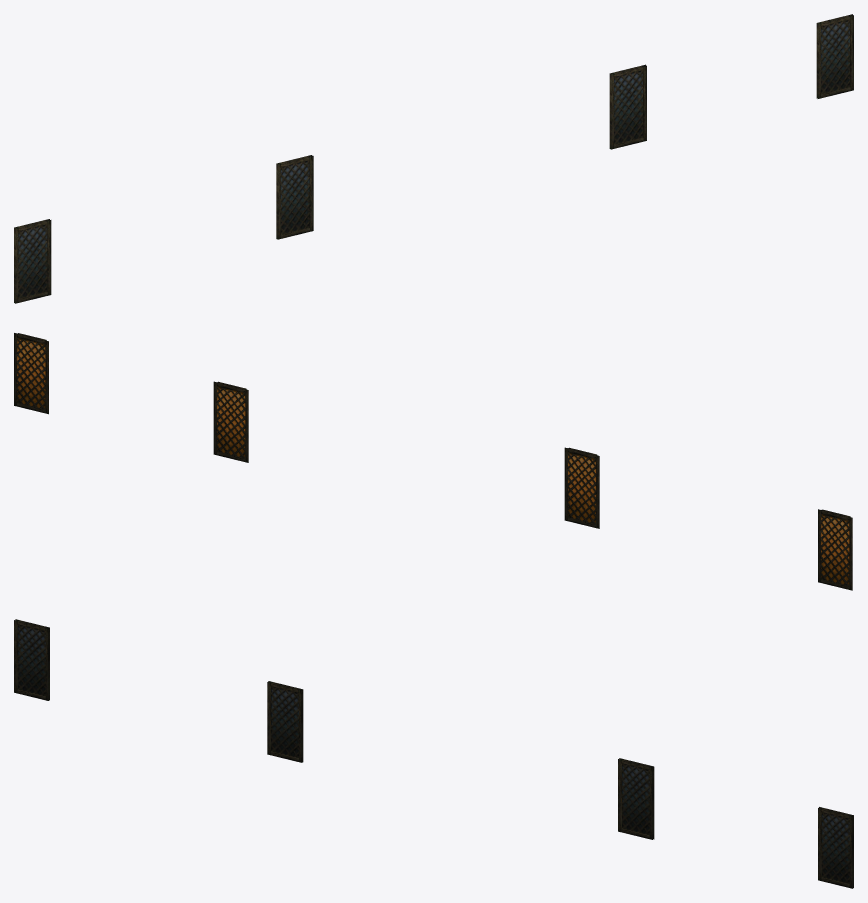
Rendered from LAKETOWN_EXTERIOR_PS_LT_WINDOW_LONG_LOD1_45.fbx.
3 renders of one model, top to bottom at view 1: azimuth 30°, elevation 25°; view 2: azimuth 150°, elevation 25°; view 3: azimuth 330°, elevation 25°, orthographic. The views are drawn at different scales.
Parts seen in each view (by area): view 1: LAKETOWN_EXTERIOR_PS_LT_WINDOW_LONG_LOD1_45; view 2: LAKETOWN_EXTERIOR_PS_LT_WINDOW_LONG_LOD1_45; view 3: LAKETOWN_EXTERIOR_PS_LT_WINDOW_LONG_LOD1_45.
Boxes of the visible parts, x1=… form: LAKETOWN_EXTERIOR_PS_LT_WINDOW_LONG_LOD1_45: x1=14, y1=14, x2=853, y2=303; LAKETOWN_EXTERIOR_PS_LT_WINDOW_LONG_LOD1_45: x1=14, y1=333, x2=852, y2=590; LAKETOWN_EXTERIOR_PS_LT_WINDOW_LONG_LOD1_45: x1=14, y1=619, x2=853, y2=888.
Bounding box in the file's own units: 175494 × 15989 × 5710.
Materials: 2 (2 with a texture image).
